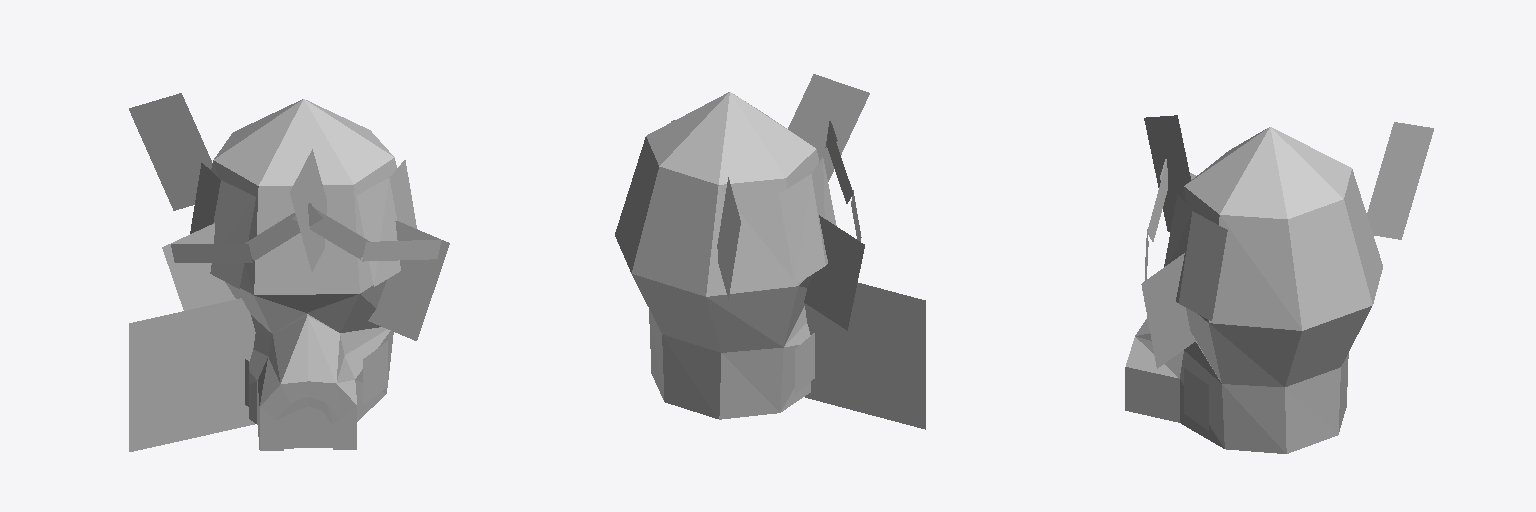
Rendered from minigame house.obj.
3 renders of one model, left to right at view 1: azimuth 30°, elevation 25°; view 2: azimuth 150°, elevation 25°; view 3: azimuth 270°, elevation 25°, orthographic.
Bounding box in the file's own units: 17.84 × 18.03 × 16.79.